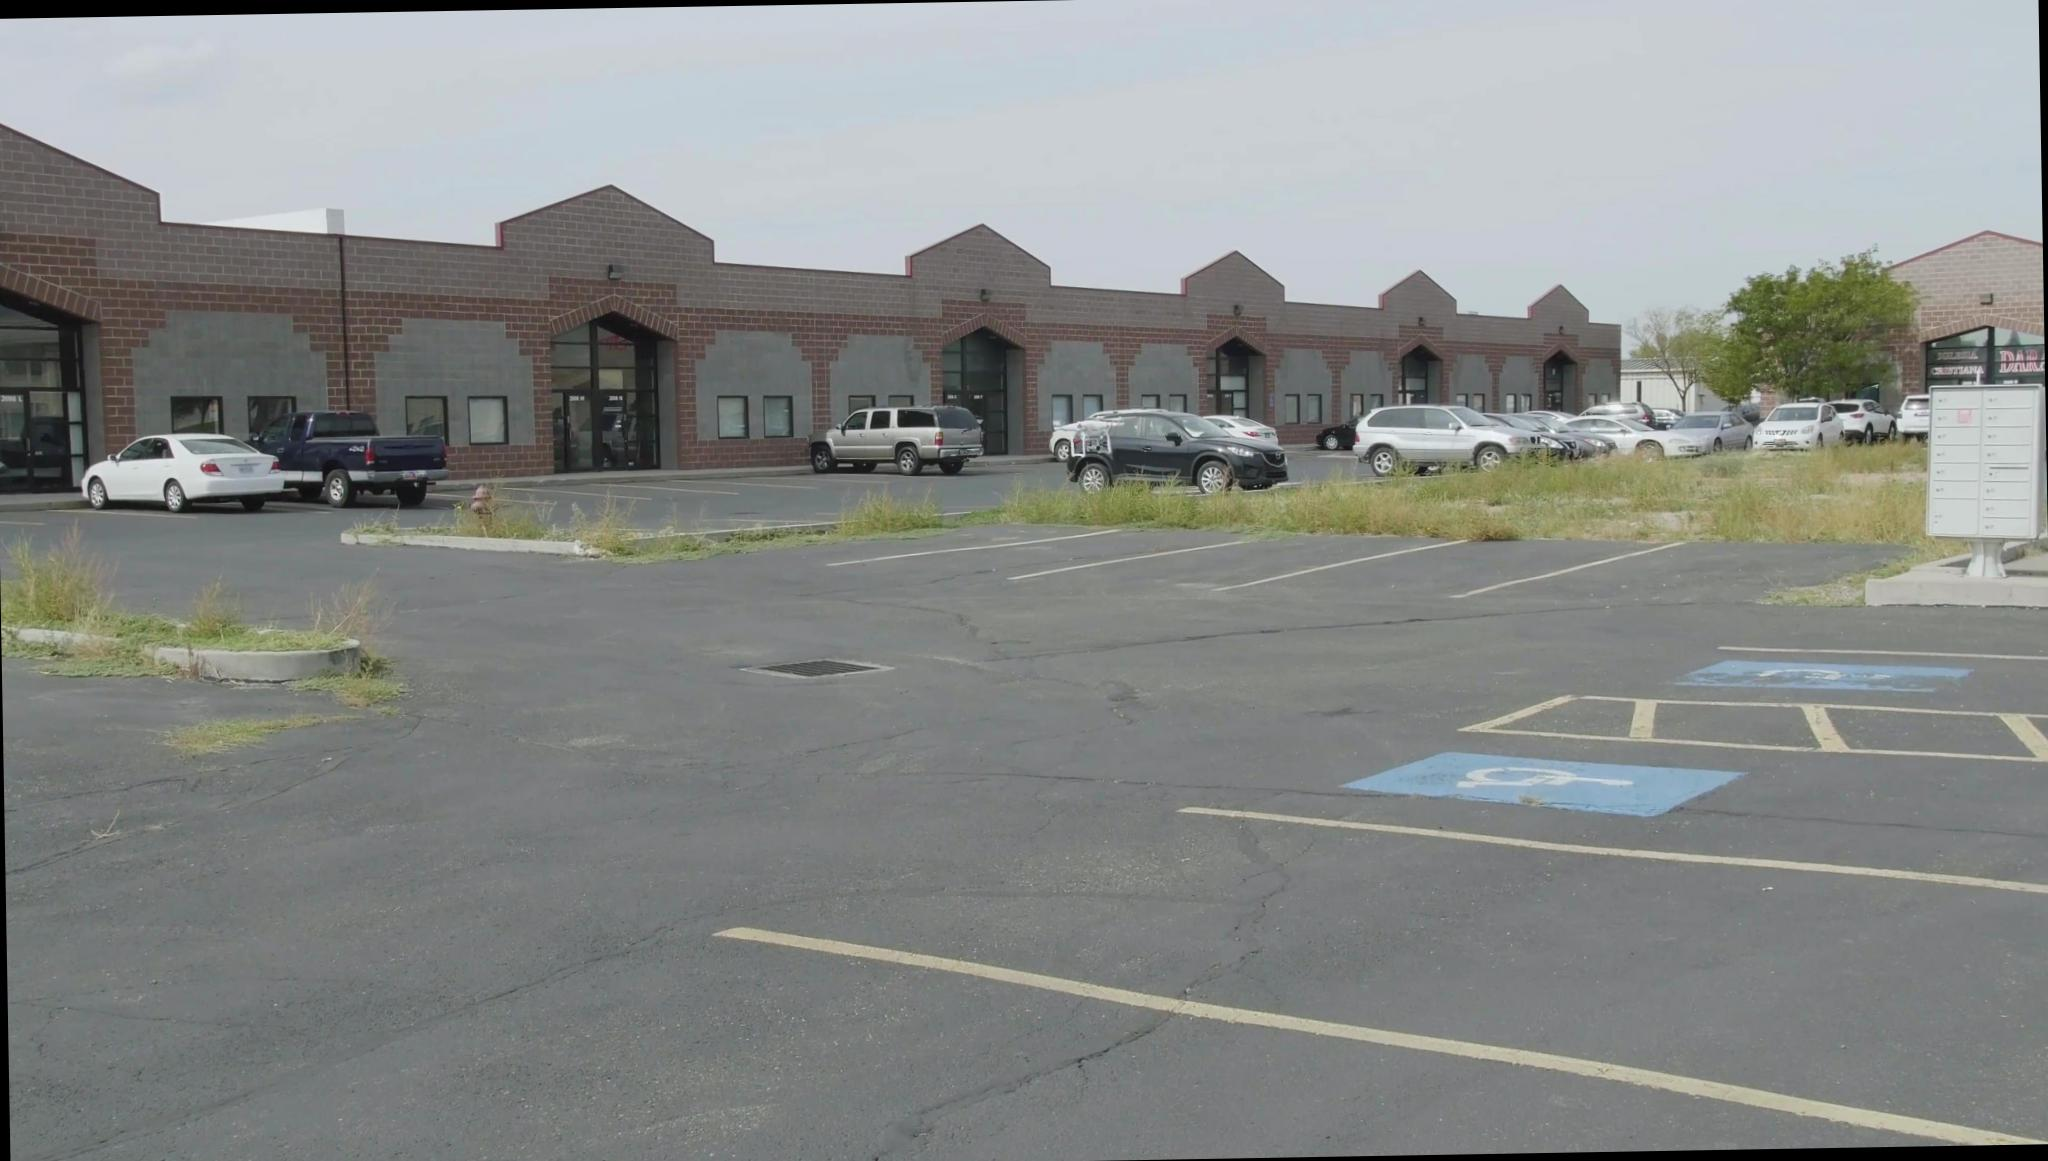drone: (1050, 414, 1125, 457)
